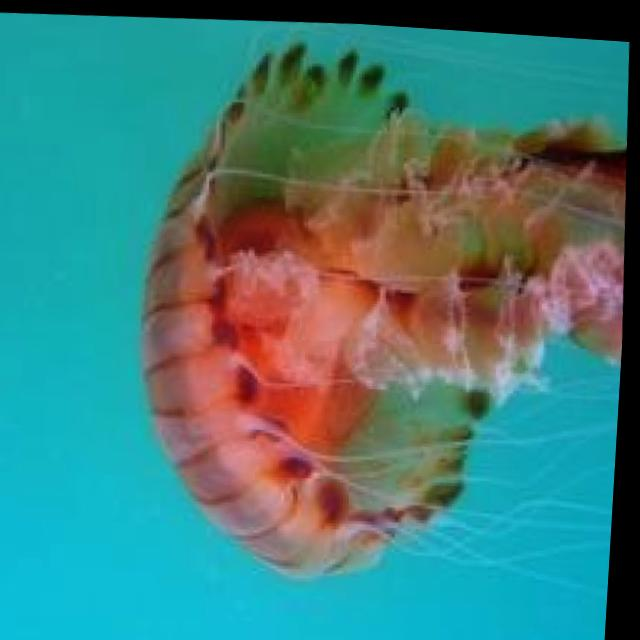Box-jellyfish: (122, 18, 640, 600)
